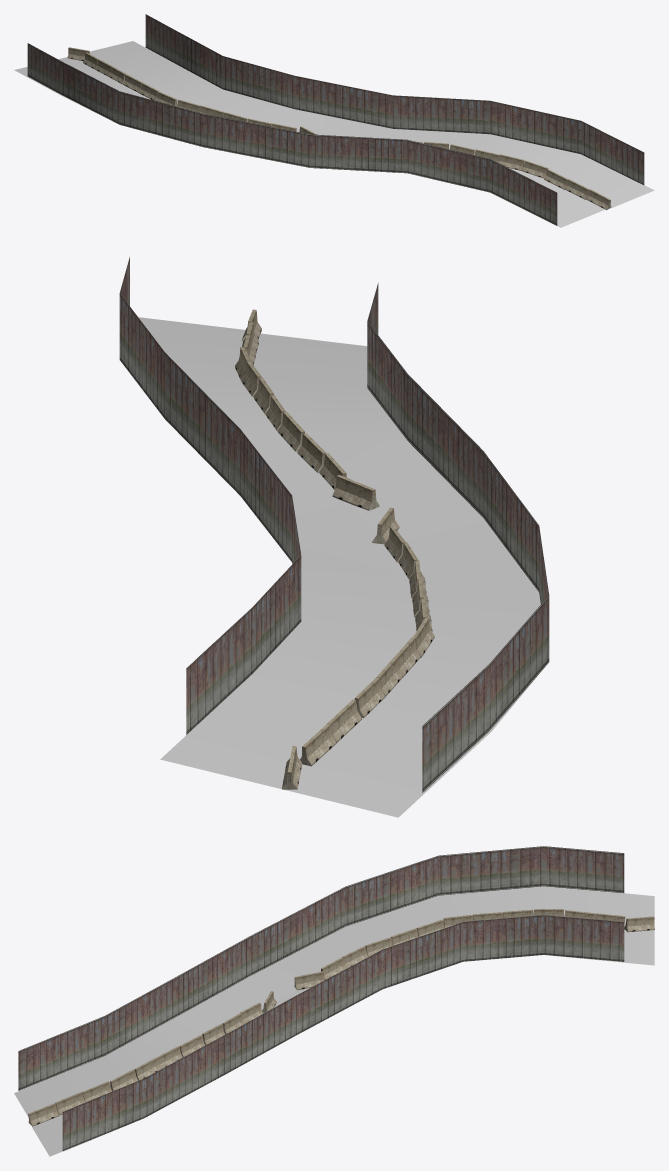
File: highway.FBX
The picture shows the model from 3 angles, top to bottom: view 1: azimuth 30°, elevation 25°; view 2: azimuth 150°, elevation 25°; view 3: azimuth 270°, elevation 25°; orthographic projection. The views are drawn at different scales.
Parts seen in each view (by area): view 1: highway; view 2: highway; view 3: highway.
Part boxes in pixels (<box>): highway: <box>14,14,654,227</box>; highway: <box>119,257,549,817</box>; highway: <box>14,846,654,1156</box>.
Bounding box in the file's own units: 3963 × 701 × 4757.
